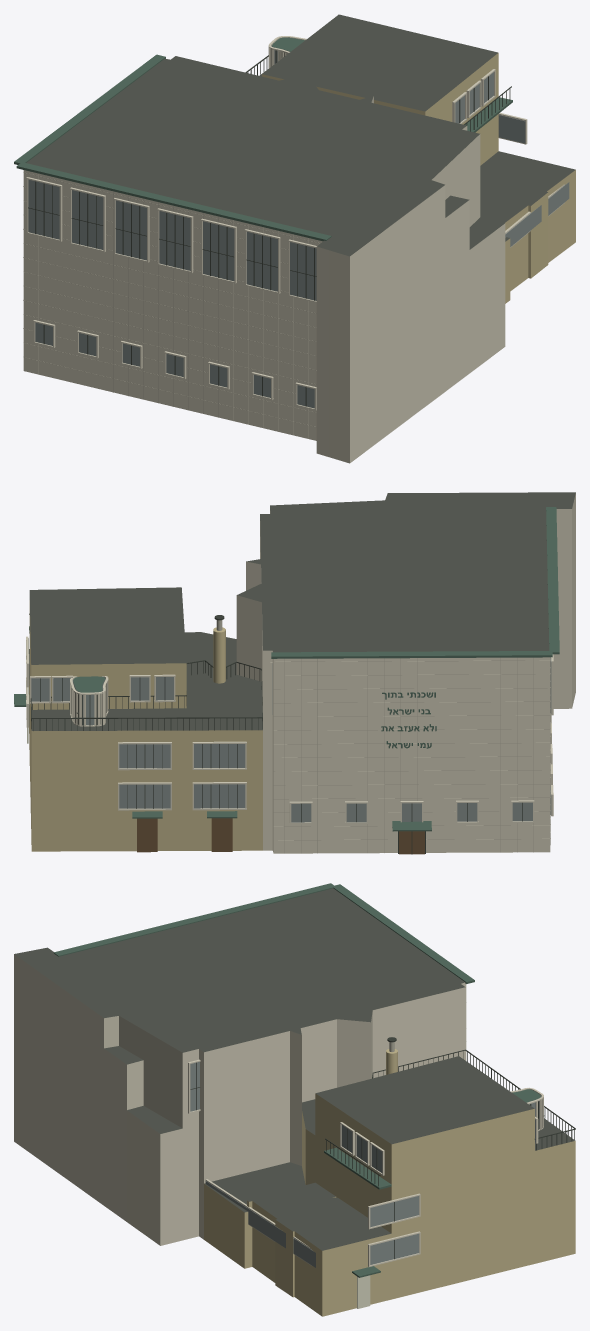
The model's file is lekstraat-synagoge.glb.
3 views of the same model, one above another, from view 1: azimuth 30°, elevation 25°; view 2: azimuth 150°, elevation 25°; view 3: azimuth 270°, elevation 25° (orthographic). The views are drawn at different scales.
Visible parts, largest first — view 1: lekstraat-synagoge; view 2: lekstraat-synagoge; view 3: lekstraat-synagoge.
Boxes of the visible parts, x1,y1,x2,y2 form: lekstraat-synagoge: (14,14,575,463); lekstraat-synagoge: (14,492,575,854); lekstraat-synagoge: (14,883,575,1316).
Size of the model in its own units: 41.67 by 14.94 by 40.38.
